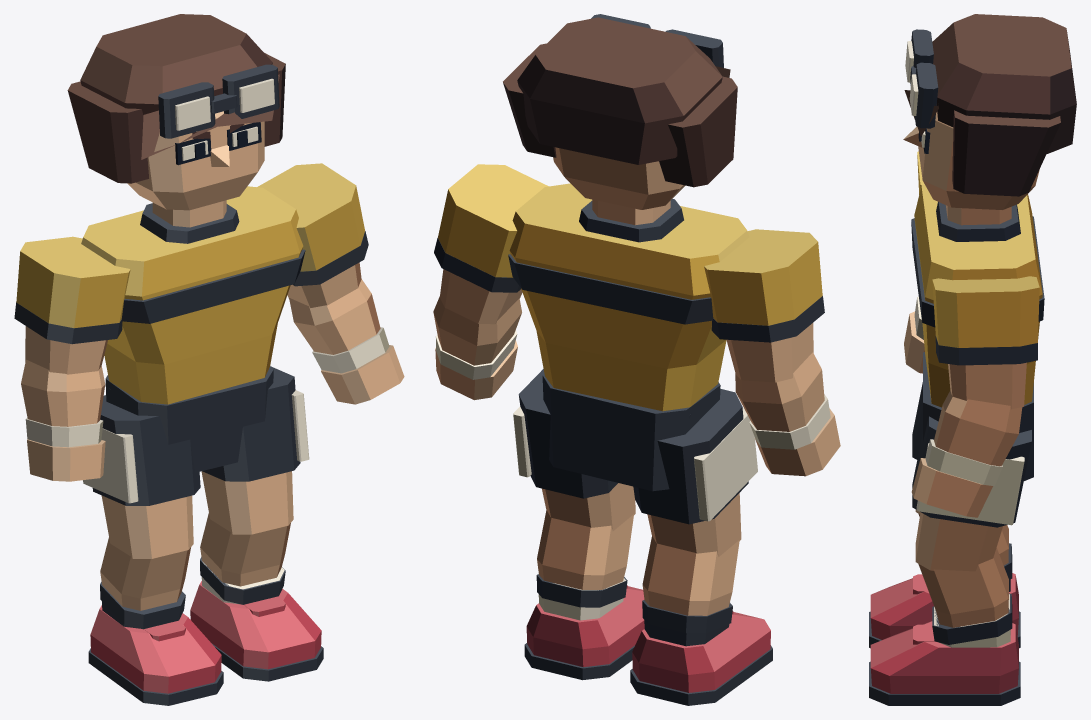
The model's file is jinx-preview.glb.
3 renders of one model, left to right at view 1: azimuth 30°, elevation 25°; view 2: azimuth 150°, elevation 25°; view 3: azimuth 270°, elevation 25°, orthographic. The views are drawn at different scales.
Parts seen in each view (by area): view 1: Jersey, BobCap, Sleeve.R, ShortsWaist, Boot.R, Boot.L, Sleeve.L, Head, Shorts.R, BobSide.R, Shorts.L, ChestBand (+28 smaller); view 2: Jersey, BobCap, ShortsWaist, Sleeve.R, Sleeve.L, Boot.R, Boot.L, Calf.R, Calf.L, Shorts.R, ChestBand, BobSide.R (+26 smaller); view 3: BobCap, Jersey, Boot.L, BobSide.L, Sleeve.L, Forearm.L, Calf.L, Thigh.L, Head, Boot.R, UpperArm.L, Hand.L (+17 smaller).
Boxes of the visible parts, box(x1,y1,x2,y2) form: Jersey: box(81, 186, 303, 404); BobCap: box(80, 14, 272, 114); Sleeve.R: box(16, 236, 130, 328); ShortsWaist: box(105, 366, 273, 472); Boot.R: box(90, 605, 221, 693); Boot.L: box(190, 581, 321, 669); Sleeve.L: box(257, 163, 364, 271); Head: box(127, 111, 264, 210); Shorts.R: box(92, 395, 200, 505); BobSide.R: box(67, 81, 148, 183); Shorts.L: box(202, 366, 300, 481); ChestBand: box(121, 249, 305, 323); Jersey: box(509, 183, 749, 411); BobCap: box(517, 17, 722, 164); ShortsWaist: box(542, 374, 720, 491); Sleeve.R: box(704, 229, 822, 325); Sleeve.L: box(438, 164, 548, 277); Boot.R: box(632, 612, 770, 692); Boot.L: box(526, 586, 644, 667); Calf.R: box(642, 536, 739, 615); Calf.L: box(537, 510, 633, 589); Shorts.R: box(633, 388, 748, 524); ChestBand: box(508, 254, 713, 324); BobSide.R: box(659, 76, 737, 187); BobCap: box(932, 14, 1076, 153); Jersey: box(914, 184, 1042, 407); Boot.L: box(870, 621, 1018, 693); BobSide.L: box(952, 110, 1060, 196); Sleeve.L: box(932, 276, 1039, 347); Forearm.L: box(934, 390, 1022, 466); Calf.L: box(918, 548, 1008, 627); Thigh.L: box(915, 512, 1002, 571); Head: box(918, 112, 1039, 209); Boot.R: box(870, 573, 1018, 639); UpperArm.L: box(948, 362, 1026, 409); Hand.L: box(911, 458, 992, 517).
Size of the model in its own units: 1.22 by 1.95 by 0.5923.
